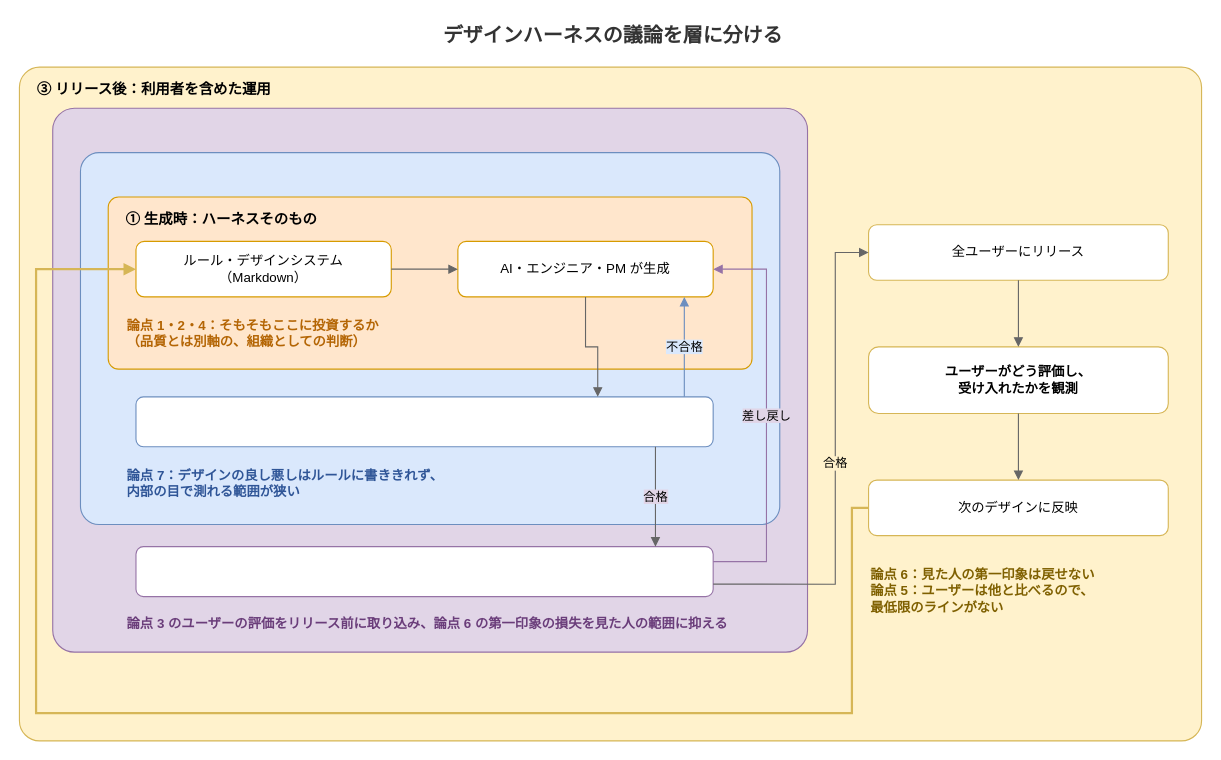
Some shapes in this 1221 by 760 pixel diagram are drawn without their labels. Here are the shapes that lost their labels. From the top down, the box of each, then its label:
(79, 152, 780, 524): ② リリース前：内部の品質確認
(52, 107, 808, 652): ②' リリース前：少人数のユーザーで検証
(135, 396, 713, 447): Linter・AI がルール準拠を確認 ／ デザイナーがレビュー
(135, 546, 713, 597): プロトタイプのユーザビリティテスト・インタビュー・限定公開
